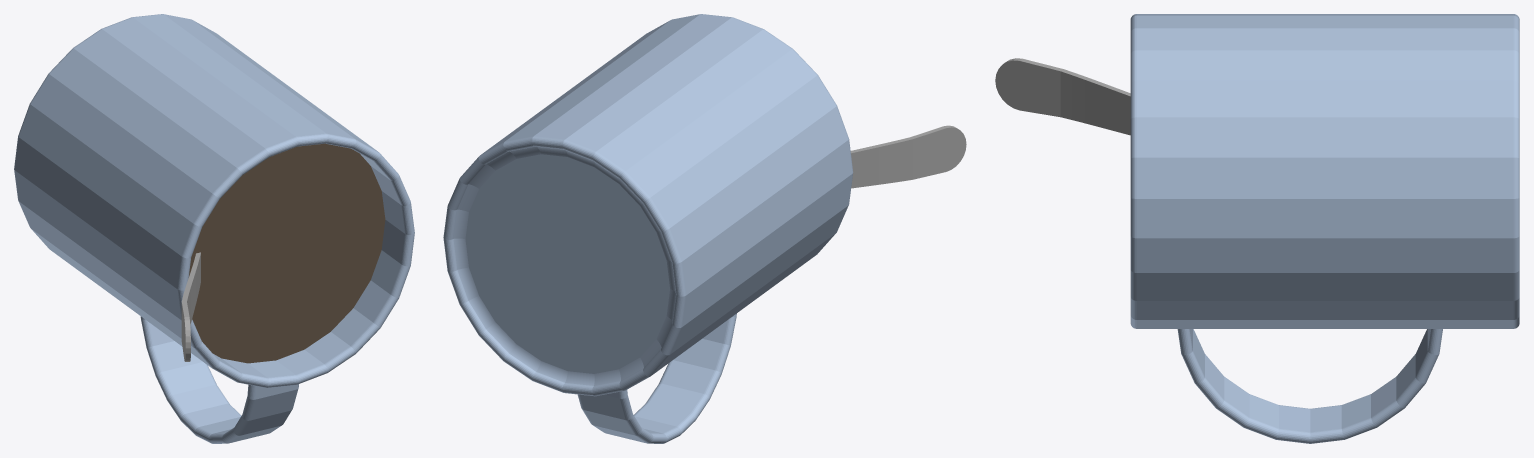
The picture shows the model from 3 angles, left to right: view 1: azimuth 30°, elevation 25°; view 2: azimuth 150°, elevation 25°; view 3: azimuth 270°, elevation 25°; orthographic projection. The views are drawn at different scales.
Parts seen in each view (by area): view 1: coffee mug; view 2: coffee mug; view 3: coffee mug.
Part boxes in pixels (left/top/right/bottom): coffee mug: left=14, top=14, right=414, bottom=443; coffee mug: left=443, top=14, right=966, bottom=443; coffee mug: left=995, top=14, right=1519, bottom=443.
Bounding box in the file's own units: 3.96 × 4.59 × 5.39.
